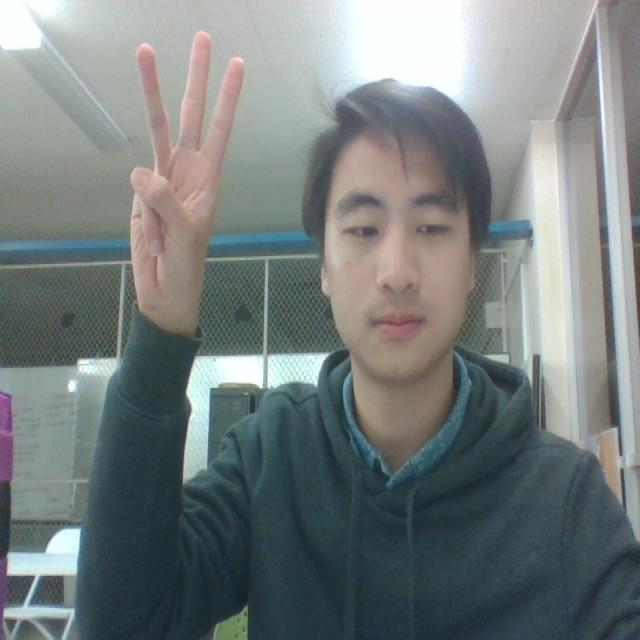W: (80, 9, 261, 356)
